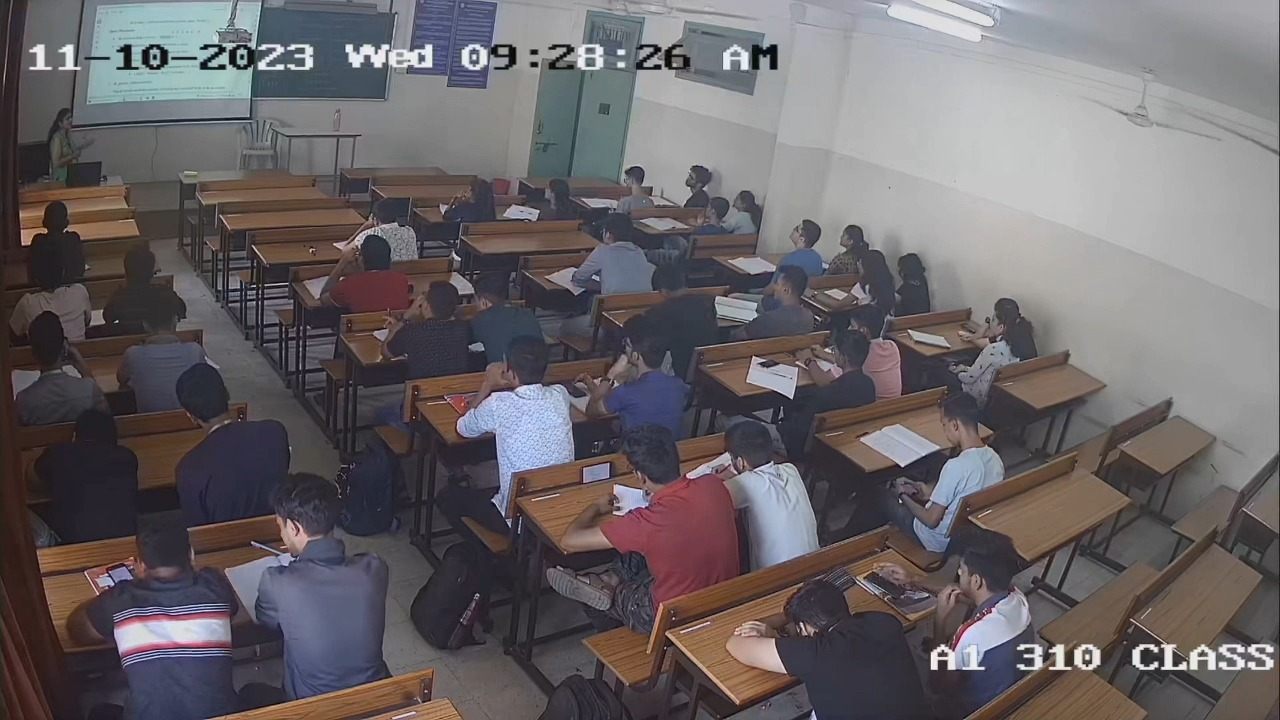cell-phones: (887, 471, 919, 502), (864, 572, 902, 598), (578, 461, 616, 485), (106, 562, 137, 590), (555, 379, 586, 399), (756, 356, 781, 373), (960, 322, 978, 333)
person: (67, 514, 246, 715), (561, 426, 740, 597), (927, 530, 1039, 698), (877, 390, 1003, 512), (582, 318, 683, 442), (784, 331, 875, 420), (949, 304, 1033, 393)
